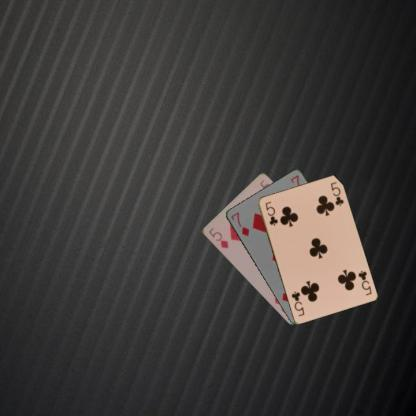5c: (355, 268, 373, 297), (262, 199, 279, 227)
5d: (206, 224, 229, 249)
7d: (228, 209, 250, 238)
